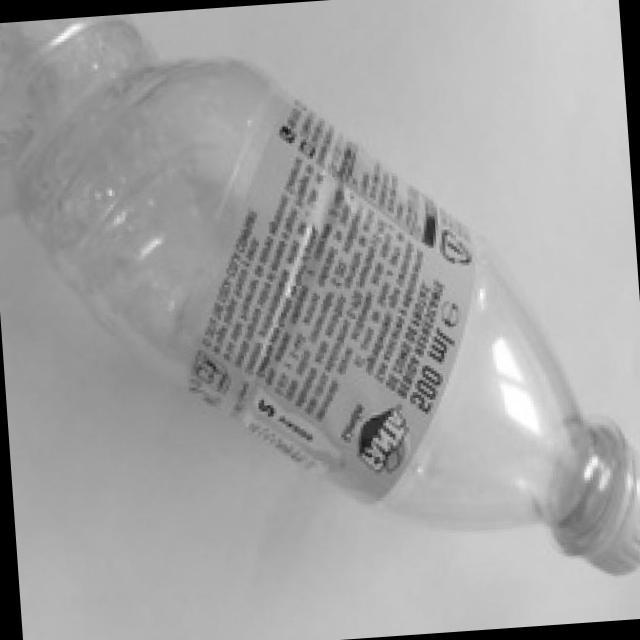good: (15, 0, 640, 616)
